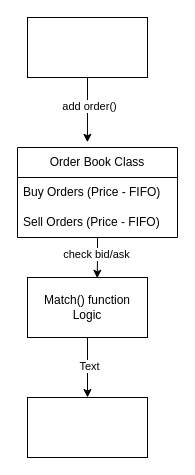
This 195x475 diagram has some shape labels left out. The centre of each missing label's shape, as x and y in pixels:
Order Stream Generator: the point at 87,47
Trade Execution Log: the point at 87,427
